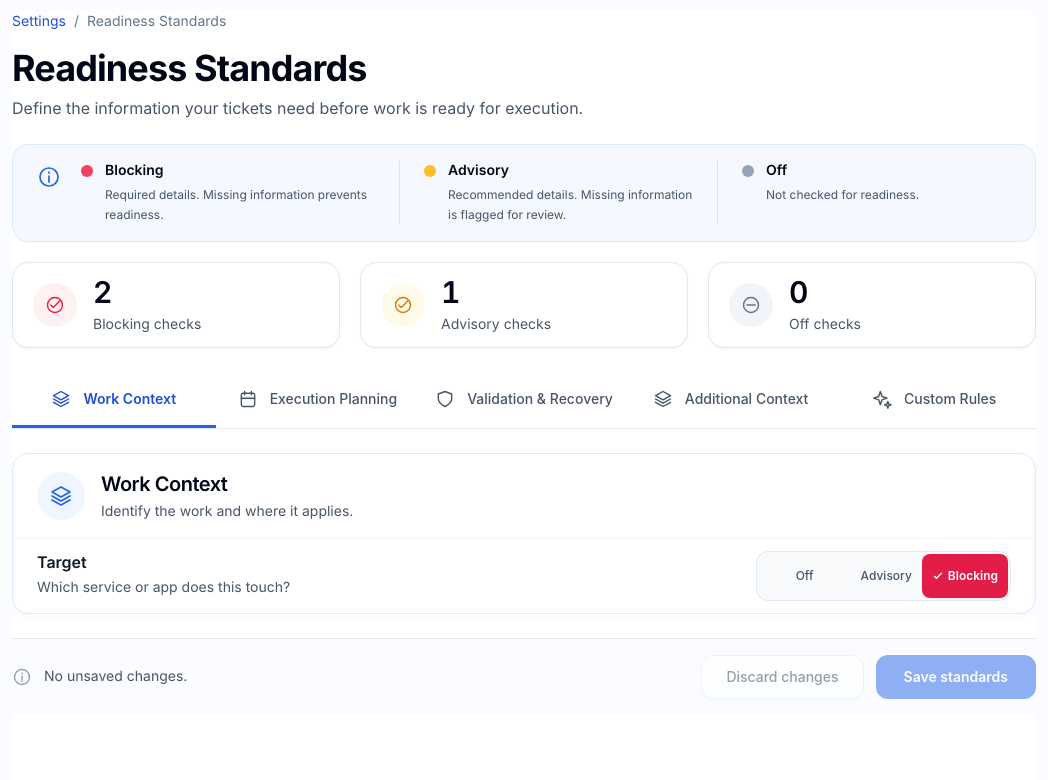
it: ChecklistSettingsPage › shows a placeholder message when there are no custom rules yet
Step 1. Click the tab "Custom Rules" → x=934, y=400, box left=832, top=372, right=1036, bottom=428
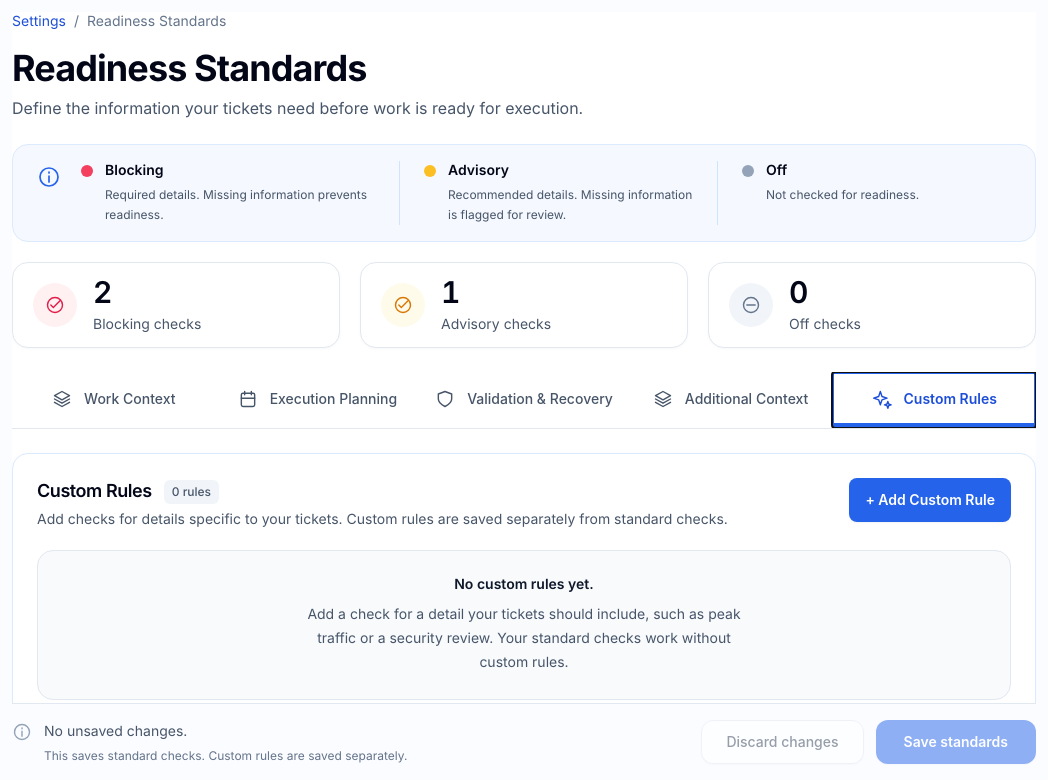
Expected: the text "No custom rules yet." is shown, left=454, top=576, right=594, bottom=593
